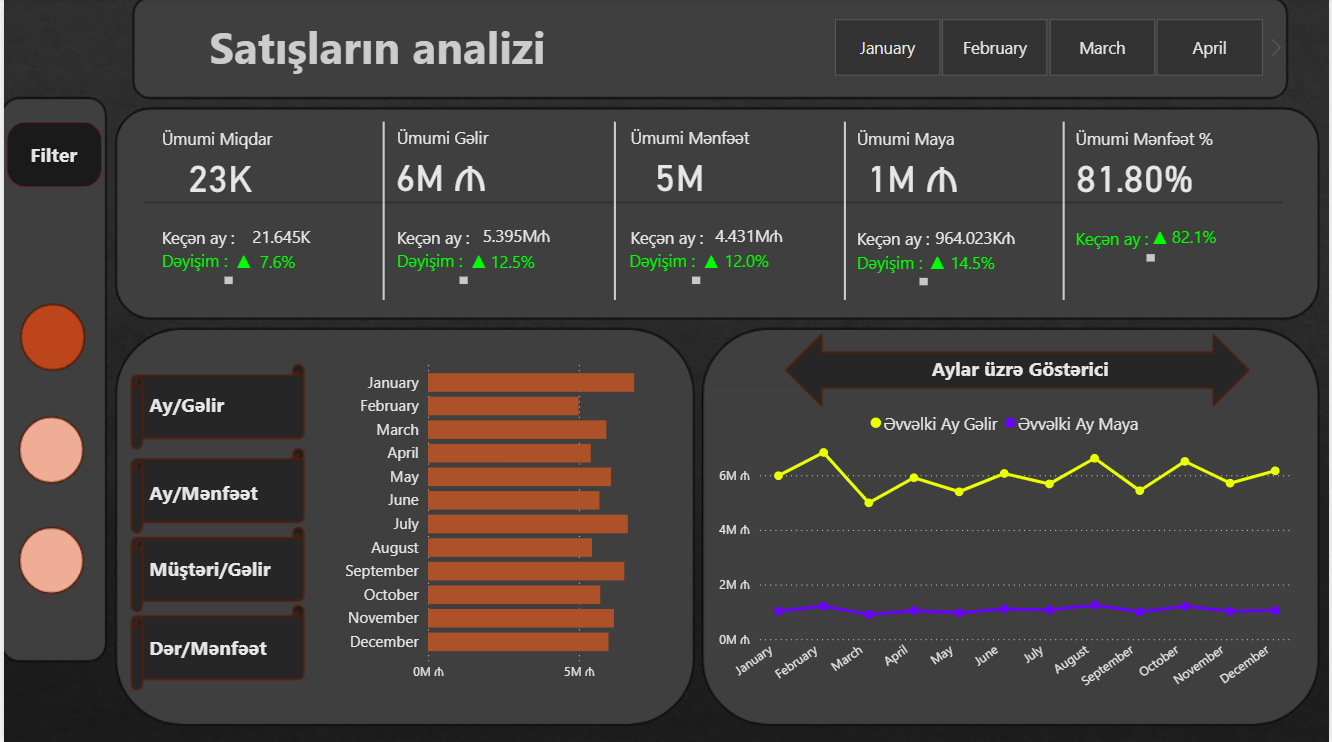

What the dashboard file says about the page in this screenshot:
{"tool":"powerbi","page":{"name":"Satışların analizi","canvas":[1280,720],"ordinal":0},"visuals":[{"type":"textbox","box":[193.3,12.2,397.8,83.3],"z":0},{"type":"card","title":"Ümumi Miqdar","fields":{"Values":["Hesablamalar.Ümumi Miqdar"]},"box":[135.6,143.3,147.8,55.6],"z":1000},{"type":"slicer","fields":{"Values":["Tarix.Ay adı"]},"box":[775.7,12.9,462.9,68.6],"z":2000},{"type":"card","title":"Keçən ay:","fields":{"Values":["Hesablamalar.KA Miqdar"]},"box":[211.1,216.8,113.3,31.1],"z":3000},{"type":"textbox","box":[147.8,214.6,94.4,32.2],"z":4000},{"type":"card","fields":{"Values":["Hesablamalar.DF Miqdar"]},"box":[234.3,241.2,60,31.1],"z":5000},{"type":"card","fields":{"Values":["Hesablamalar.İcon"]},"box":[211,239,41.1,23.3],"z":6000},{"type":"textbox","title":"Dəyişim :","box":[147.7,242.3,78.9,38.9],"z":7000},{"type":"textbox","box":[147.8,118.9,143.3,32.2],"z":8000},{"type":"card","title":"Ümumi Miqdar","fields":{"Values":["Hesablamalar.Ümumi Gəlir"]},"box":[352.2,142.2,138.9,55.6],"z":9000},{"type":"card","title":"Keçən ay:","fields":{"Values":["Hesablamalar.KA Gəlir"]},"box":[437.8,216.4,113.3,31.1],"z":10000},{"type":"textbox","box":[374.4,214.2,94.4,32.2],"z":11000},{"type":"card","fields":{"Values":["Hesablamalar.DF Gəlir"]},"box":[461,240.8,60,31.1],"z":12000},{"type":"card","fields":{"Values":["Hesablamalar.İcon"]},"box":[437.7,238.6,41.1,23.3],"z":13000},{"type":"textbox","title":"Dəyişim :","box":[374.3,242,78.9,38.9],"z":14000},{"type":"textbox","box":[374.4,118.5,143.3,32.2],"z":15000},{"type":"card","title":"Ümumi Miqdar","fields":{"Values":["Hesablamalar.Ümumi Mənfəət"]},"box":[585.6,142.2,133.3,55.6],"z":16000},{"type":"card","title":"Keçən ay:","fields":{"Values":["Hesablamalar.KA Mənfəət"]},"box":[662.3,216.4,113.3,31.1],"z":17000},{"type":"textbox","box":[599,214.2,94.4,32.2],"z":18000},{"type":"card","fields":{"Values":["Hesablamalar.DF Mənfəət"]},"box":[686.4,239.6,60.2,31.3],"z":19000},{"type":"card","fields":{"Values":["Hesablamalar.İcon"]},"box":[662.2,238.7,41.1,23.3],"z":20000},{"type":"textbox","title":"Dəyişim :","box":[598.9,242,78.9,38.9],"z":21000},{"type":"textbox","box":[599,118.5,143.3,32.2],"z":22000},{"type":"card","title":"Ümumi Miqdar","fields":{"Values":["Hesablamalar.Ümumi Maya"]},"box":[808,143.5,137.7,55.6],"z":23000},{"type":"card","title":"Keçən ay:","fields":{"Values":["Hesablamalar.KA Maya"]},"box":[881.2,217.8,113.3,31.1],"z":24000},{"type":"textbox","box":[817.9,215.6,94.4,32.2],"z":25000},{"type":"card","fields":{"Values":["Hesablamalar.DF Maya"]},"box":[904.4,242.2,60,31.1],"z":26000},{"type":"card","fields":{"Values":["Hesablamalar.İconMaya"]},"box":[881.1,240,41.1,23.3],"z":27000},{"type":"textbox","title":"Dəyişim :","box":[817.8,243.3,78.9,38.9],"z":28000},{"type":"textbox","box":[817.9,119.9,143.3,32.2],"z":29000},{"type":"card","title":"Ümumi Miqdar","fields":{"Values":["Hesablamalar.Ümumi Mənfəət %"]},"box":[998.9,143.3,185.6,55.6],"z":30000},{"type":"card","title":"Keçən ay:","fields":{"Values":["Hesablamalar.KA Mənfəət %"]},"box":[1092.2,217.7,113.3,31.1],"z":31000},{"type":"card","fields":{"Values":["Hesablamalar.İconMənfəət%"]},"box":[1095.4,216.5,41.1,23.3],"z":32000},{"type":"textbox","title":"Keçən ay :","box":[1028.8,221,86.7,38.9],"z":33000},{"type":"textbox","box":[1028.9,120,143.3,32.2],"z":34000},{"type":"shape","box":[135.6,183.3,1098.9,27.8],"z":35000},{"type":"shape","box":[348.9,118.9,35.6,172.2],"z":36000},{"type":"shape","box":[572.2,118.9,35.6,172.2],"z":37000},{"type":"shape","box":[793.3,118.9,35.6,172.2],"z":38000},{"type":"shape","box":[1005.6,118.9,35.6,172.2],"z":39000},{"type":"shape","box":[2.2,120,92.2,63.3],"z":40000},{"type":"textbox","box":[20,133.3,77.8,36.7],"z":41000},{"type":"textbox","box":[890,340,188.9,36.7],"z":42000},{"type":"lineChart","fields":{"Y":["Hesablamalar.KA Gəlir","Hesablamalar.KA Maya"],"Category":["Tarix.Ay adı"]},"box":[685.7,388.6,564.3,298.6],"z":43000},{"type":"textbox","box":[135.4,375,187.5,37],"z":44000},{"type":"textbox","box":[135.4,459.5,188.7,37],"z":45000},{"type":"textbox","box":[135.4,533.6,188.7,37],"z":46000},{"type":"textbox","box":[135.4,608.9,188.7,37],"z":47000},{"type":"barChart","fields":{"Category":["Tarix.Ay adı"],"Y":["Hesablamalar.Ümumi Gəlir"]},"box":[318.3,340.3,343.8,328.7],"z":48000}]}

Visuals, with their boxes in screenshot pixels (x1, y1, x2, y2), scaled from the page's 1280x720 canvas onto the 1332x742 screenshot:
textbox: pyautogui.locateOnScreen(201, 13, 615, 98)
"Ümumi Miqdar" card: pyautogui.locateOnScreen(141, 148, 295, 205)
slicer - Tarix.Ay adı: pyautogui.locateOnScreen(807, 13, 1289, 84)
"Keçən ay:" card: pyautogui.locateOnScreen(220, 223, 338, 255)
textbox: pyautogui.locateOnScreen(154, 221, 252, 254)
card - Hesablamalar.DF Miqdar: pyautogui.locateOnScreen(244, 249, 306, 281)
card - Hesablamalar.İcon: pyautogui.locateOnScreen(220, 246, 262, 270)
"Dəyişim :" textbox: pyautogui.locateOnScreen(154, 250, 236, 290)
textbox: pyautogui.locateOnScreen(154, 123, 303, 156)
"Ümumi Miqdar" card: pyautogui.locateOnScreen(367, 147, 511, 204)
"Keçən ay:" card: pyautogui.locateOnScreen(456, 223, 573, 255)
textbox: pyautogui.locateOnScreen(390, 221, 488, 254)
card - Hesablamalar.DF Gəlir: pyautogui.locateOnScreen(480, 248, 542, 280)
card - Hesablamalar.İcon: pyautogui.locateOnScreen(455, 246, 498, 270)
"Dəyişim :" textbox: pyautogui.locateOnScreen(390, 249, 472, 289)
textbox: pyautogui.locateOnScreen(390, 122, 539, 155)
"Ümumi Miqdar" card: pyautogui.locateOnScreen(609, 147, 748, 204)
"Keçən ay:" card: pyautogui.locateOnScreen(689, 223, 807, 255)
textbox: pyautogui.locateOnScreen(623, 221, 722, 254)
card - Hesablamalar.DF Mənfəət: pyautogui.locateOnScreen(714, 247, 777, 279)
card - Hesablamalar.İcon: pyautogui.locateOnScreen(689, 246, 732, 270)
"Dəyişim :" textbox: pyautogui.locateOnScreen(623, 249, 705, 289)
textbox: pyautogui.locateOnScreen(623, 122, 772, 155)
"Ümumi Miqdar" card: pyautogui.locateOnScreen(841, 148, 984, 205)
"Keçən ay:" card: pyautogui.locateOnScreen(917, 224, 1035, 257)
textbox: pyautogui.locateOnScreen(851, 222, 949, 255)
card - Hesablamalar.DF Maya: pyautogui.locateOnScreen(941, 250, 1004, 282)
card - Hesablamalar.İconMaya: pyautogui.locateOnScreen(917, 247, 960, 271)
"Dəyişim :" textbox: pyautogui.locateOnScreen(851, 251, 933, 291)
textbox: pyautogui.locateOnScreen(851, 124, 1000, 157)
"Ümumi Miqdar" card: pyautogui.locateOnScreen(1039, 148, 1233, 205)
"Keçən ay:" card: pyautogui.locateOnScreen(1137, 224, 1254, 256)
card - Hesablamalar.İconMənfəət%: pyautogui.locateOnScreen(1140, 223, 1183, 247)
"Keçən ay :" textbox: pyautogui.locateOnScreen(1071, 228, 1161, 268)
textbox: pyautogui.locateOnScreen(1071, 124, 1220, 157)
shape: pyautogui.locateOnScreen(141, 189, 1285, 218)
shape: pyautogui.locateOnScreen(363, 123, 400, 300)
shape: pyautogui.locateOnScreen(595, 123, 632, 300)
shape: pyautogui.locateOnScreen(826, 123, 863, 300)
shape: pyautogui.locateOnScreen(1046, 123, 1083, 300)
shape: pyautogui.locateOnScreen(2, 124, 98, 189)
textbox: pyautogui.locateOnScreen(21, 137, 102, 175)
textbox: pyautogui.locateOnScreen(926, 350, 1123, 388)
lineChart - Hesablamalar.KA Gəlir x Hesablamalar.KA Maya: pyautogui.locateOnScreen(714, 400, 1301, 708)
textbox: pyautogui.locateOnScreen(141, 386, 336, 425)
textbox: pyautogui.locateOnScreen(141, 474, 337, 512)
textbox: pyautogui.locateOnScreen(141, 550, 337, 588)
textbox: pyautogui.locateOnScreen(141, 628, 337, 666)
barChart - Tarix.Ay adı x Hesablamalar.Ümumi Gəlir: pyautogui.locateOnScreen(331, 351, 689, 689)
